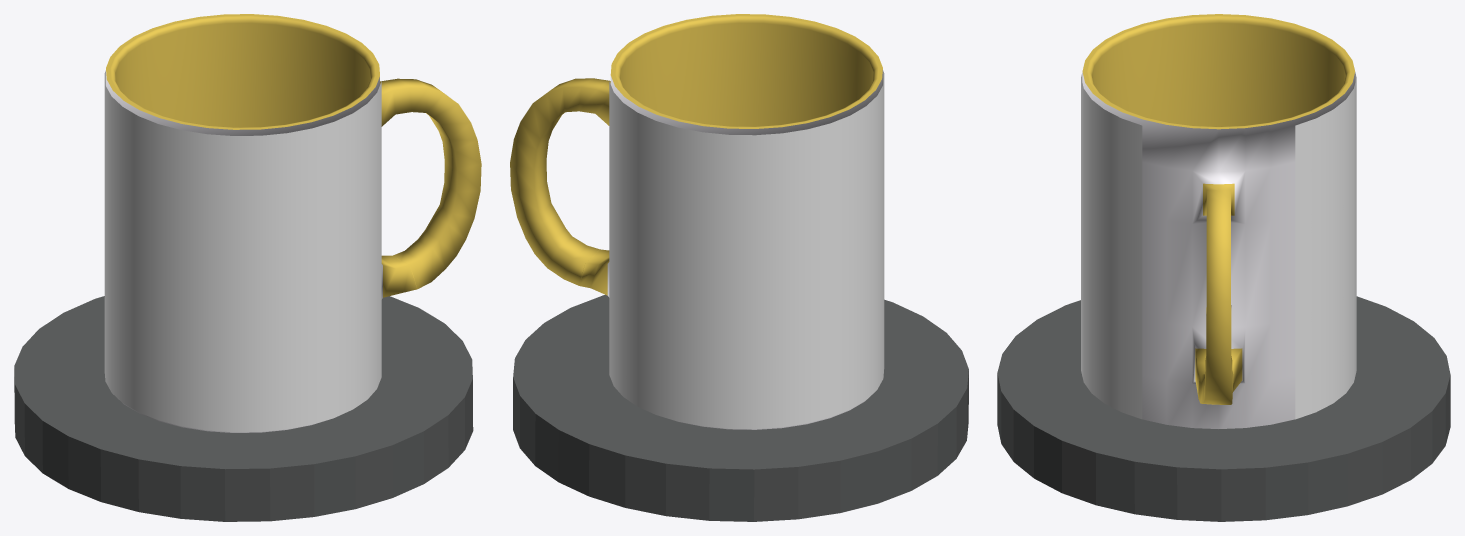
File: Texturas.glb
The picture shows the model from 3 angles, left to right: view 1: azimuth 30°, elevation 25°; view 2: azimuth 150°, elevation 25°; view 3: azimuth 270°, elevation 25°; orthographic projection.
Parts seen in each view (by area): view 1: Cilindro.001, Cilindro; view 2: Cilindro.001, Cilindro; view 3: Cilindro.001, Cilindro.
Part boxes in pixels (x1,y1,x2,y2): Cilindro.001: (104,14,481,432); Cilindro: (14,296,473,521); Cilindro.001: (510,14,884,429); Cilindro: (513,294,968,521); Cilindro.001: (1081,14,1356,428); Cilindro: (997,296,1450,521).
Size of the model in its own units: 2.34 by 1.86 by 2.16.
